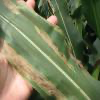Corn leaf blight: (0, 0, 91, 96)
